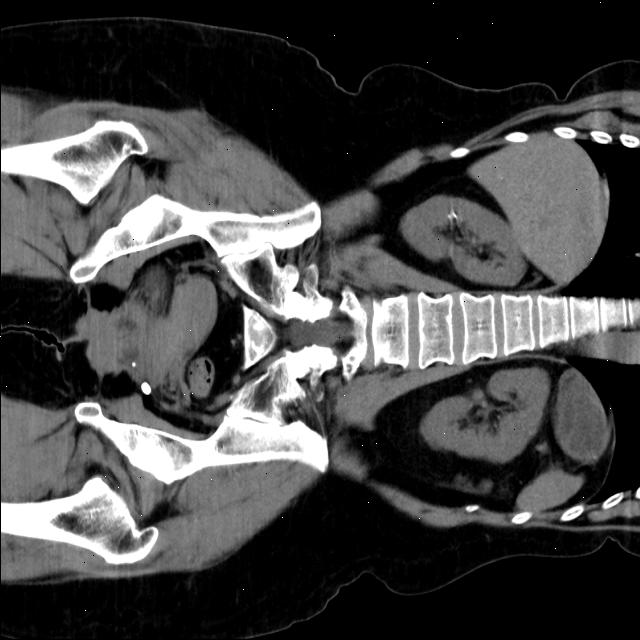kidneystone: (446, 210, 458, 226)
